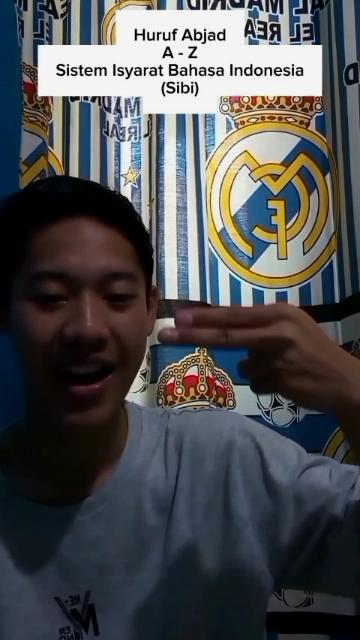H: (157, 299, 360, 425)
